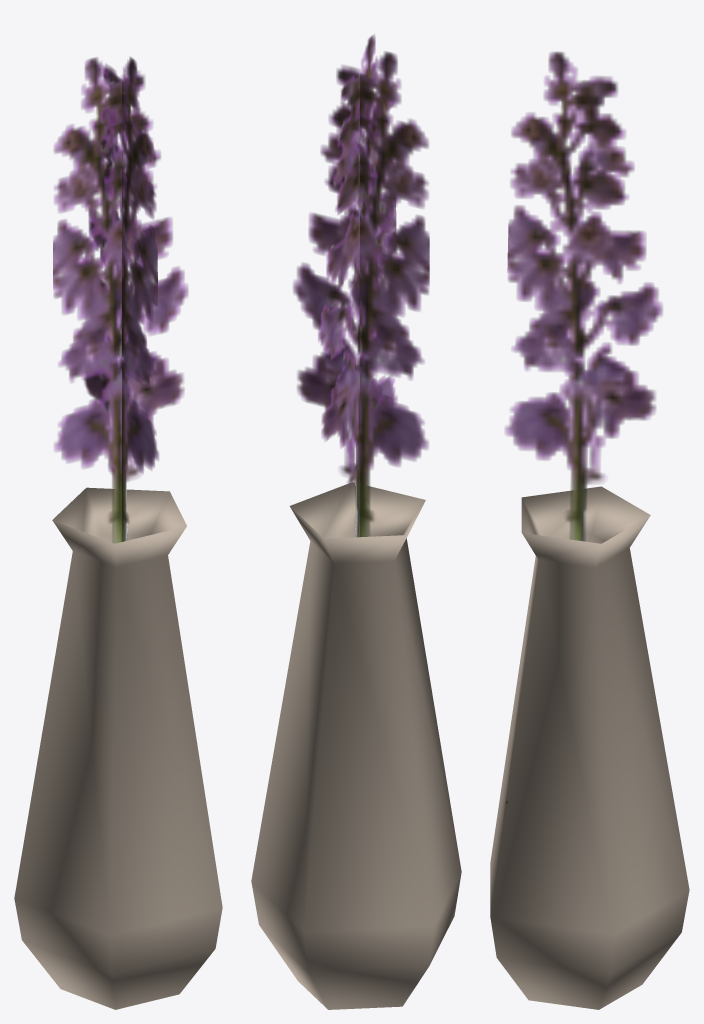
Rendered from Flower_Table-col.glb.
3 views of the same model, side by side, from view 1: azimuth 30°, elevation 25°; view 2: azimuth 150°, elevation 25°; view 3: azimuth 270°, elevation 25° (orthographic).
Parts seen in each view (by area): view 1: Flower_Table-col; view 2: Flower_Table-col; view 3: Flower_Table-col.
Boxes of the visible parts, x1,y1,x2,y2 form: Flower_Table-col: [14, 57, 222, 1009]; Flower_Table-col: [251, 34, 461, 1009]; Flower_Table-col: [490, 51, 689, 1009].
Size of the model in its own units: 0.1804 by 0.892 by 0.1716.
1 material, 1 textured.
